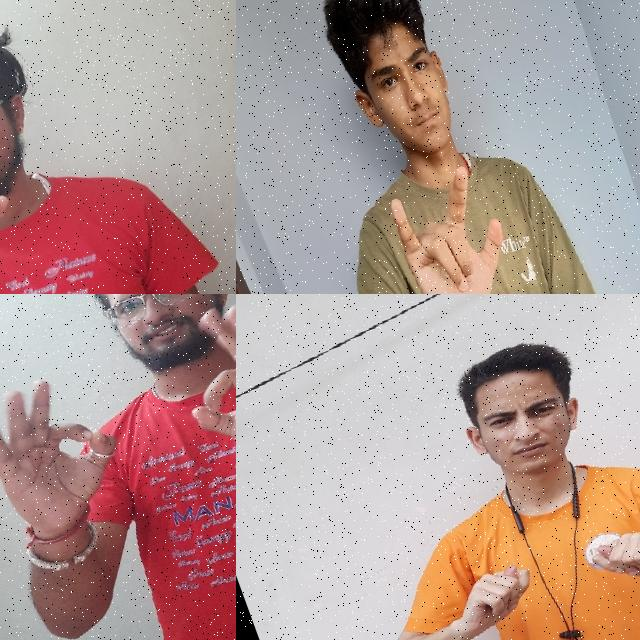Corna: (364, 158, 526, 294)
Dulya: (445, 548, 553, 640), (575, 500, 640, 608)
Fist Mouth: (0, 0, 95, 294)
Okay: (0, 356, 147, 562), (154, 294, 236, 486)
